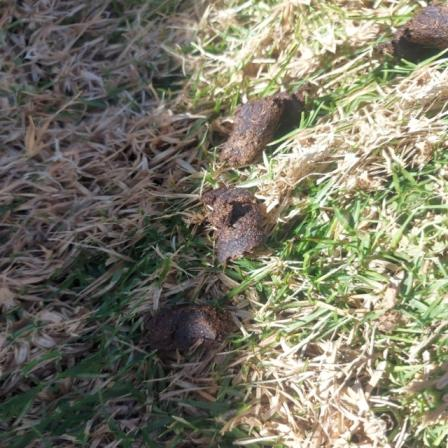dog-poop: (202, 92, 278, 262), (134, 304, 235, 354), (388, 4, 448, 58)
